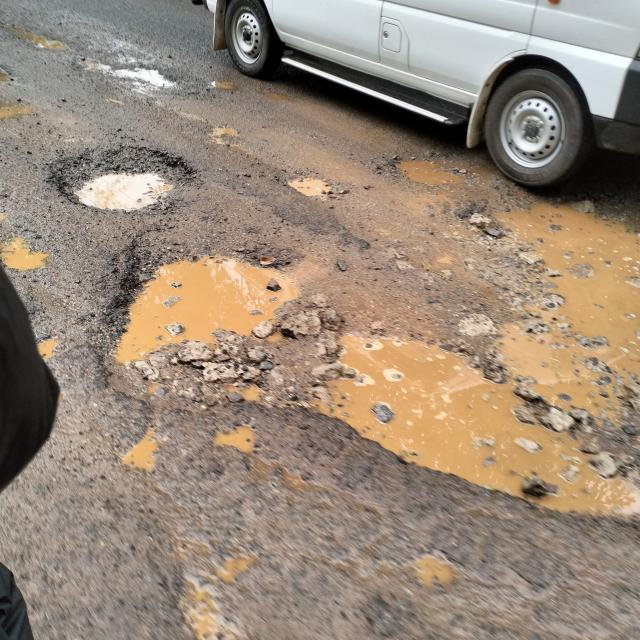pothole: (306, 192, 640, 540), (102, 253, 322, 398), (48, 128, 200, 230), (165, 534, 275, 640), (210, 420, 322, 504), (377, 148, 480, 205), (86, 54, 192, 108), (112, 417, 176, 483), (410, 542, 472, 602), (6, 12, 76, 62), (282, 168, 344, 217), (0, 229, 62, 270), (210, 80, 291, 106), (206, 121, 249, 163), (0, 98, 44, 131), (0, 63, 34, 88)
